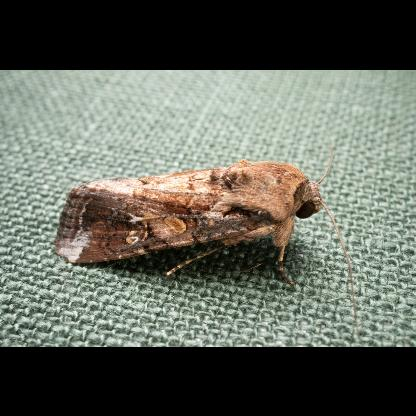Fall Armyworm Moth: (51, 146, 362, 342)
